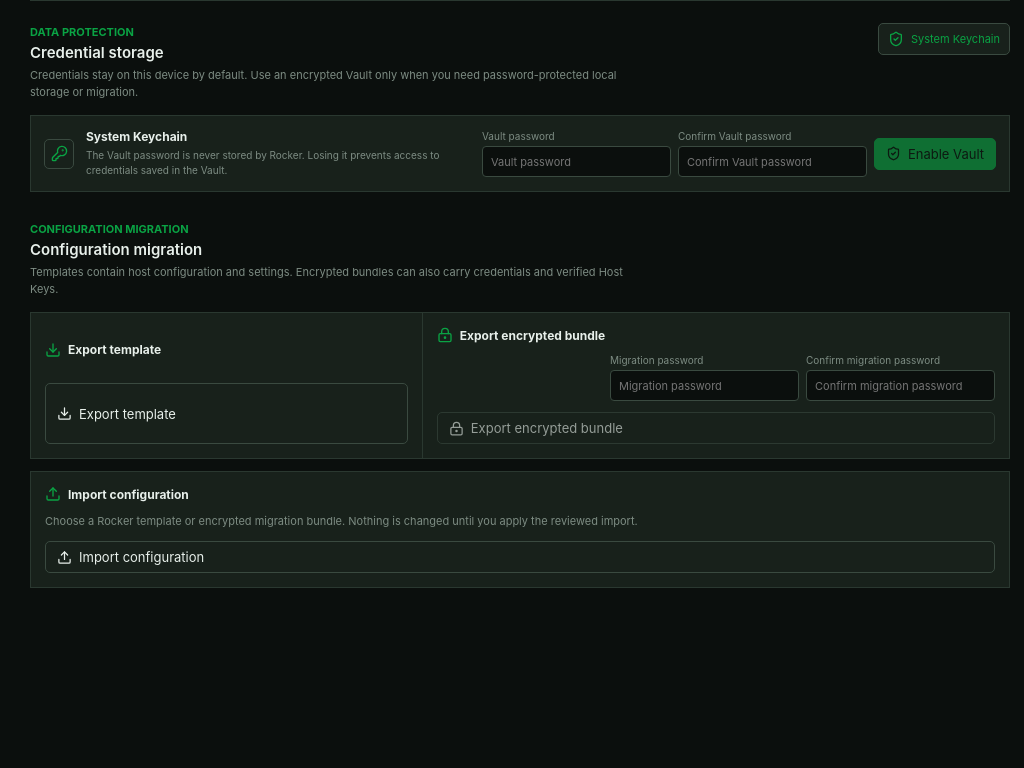
it: DataProtectionSettings › exports a non-sensitive template without asking for a password
What coordinates should you click on to do the following:
click the button "Export template"
I would click on:
 (127, 414)
Its box is [45,383,408,444].
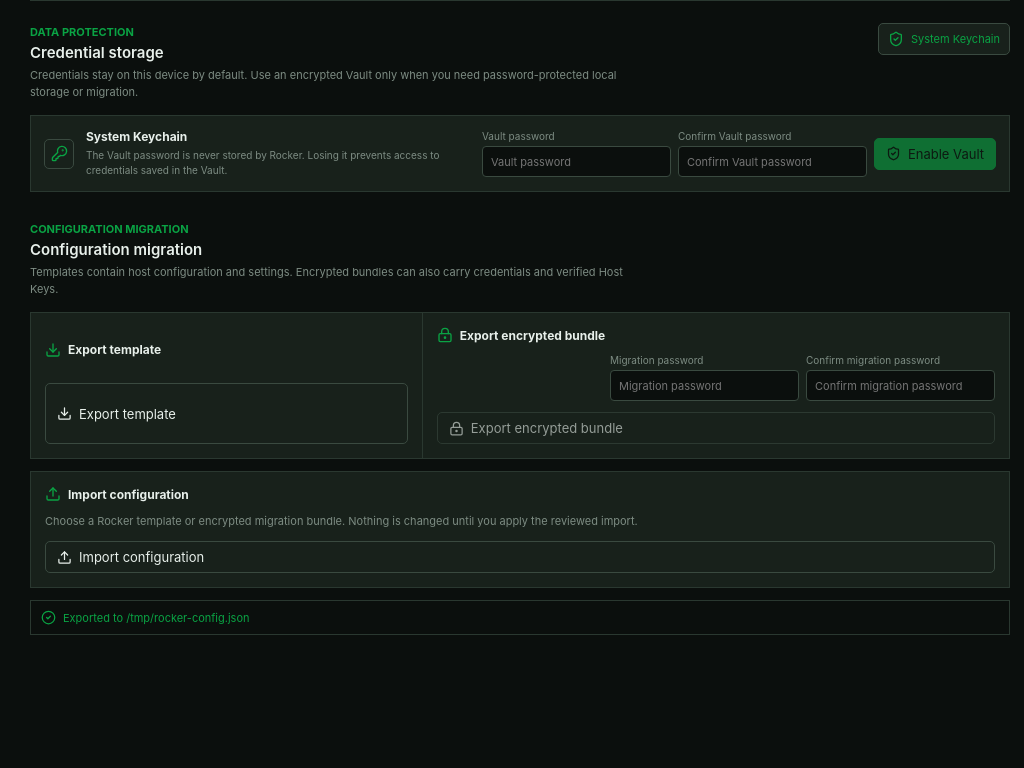
Check: the text "Exported to /tmp/rocker-config.json" is shown, box [63,611,250,625]
